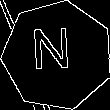N_S: (36, 30, 79, 82)
